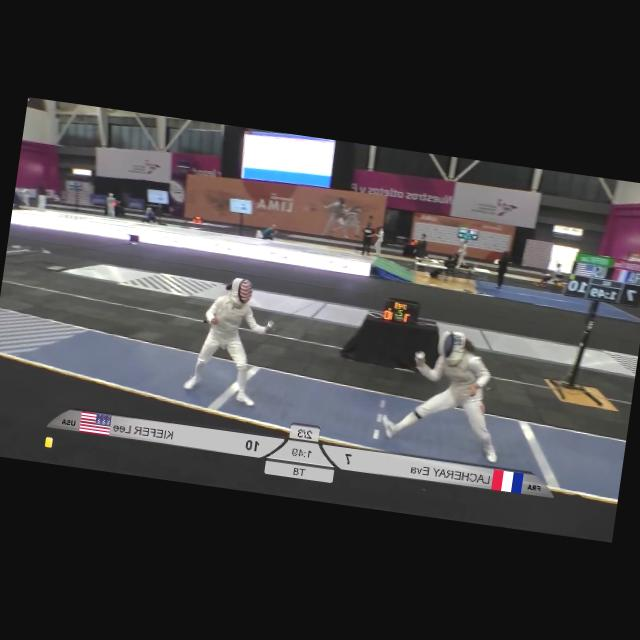blade: (266, 291, 324, 338)
